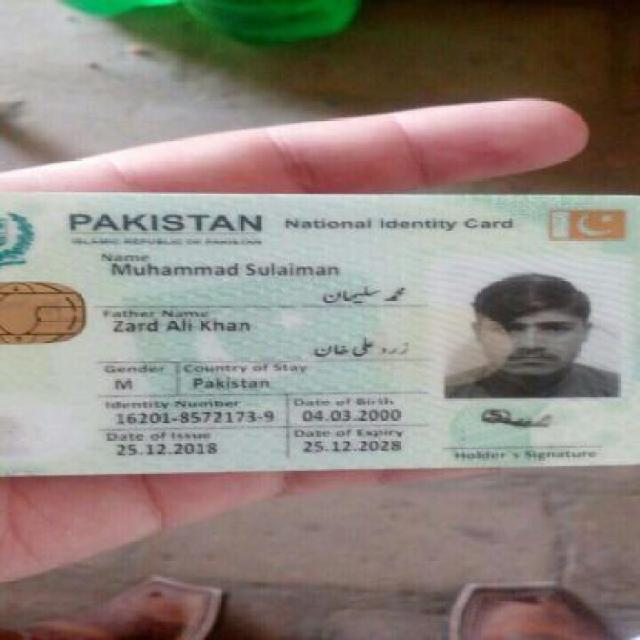Front: (6, 186, 637, 472)
